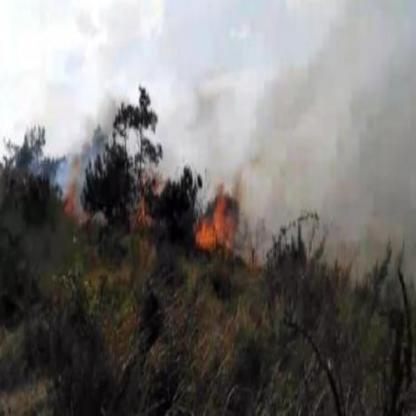fire: (185, 178, 242, 270), (130, 156, 169, 241), (64, 141, 82, 224)
smoke: (170, 15, 405, 269)
